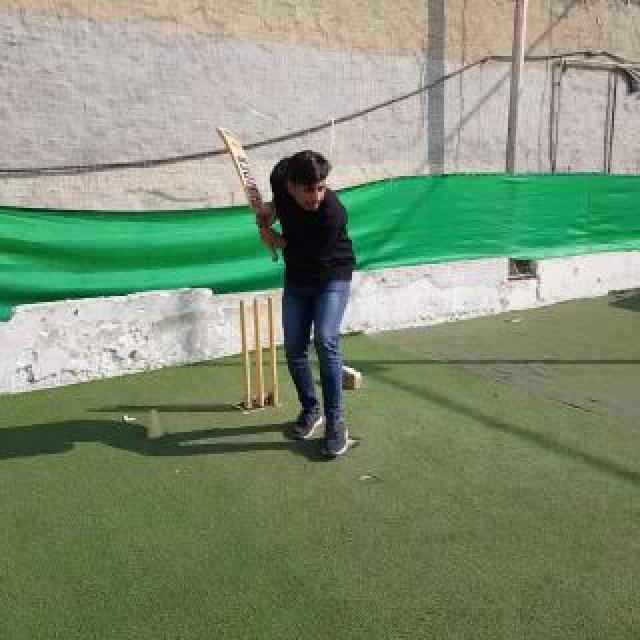bat: (216, 126, 280, 262)
